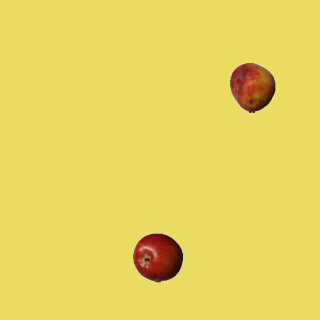Apple Braeburn: (132, 232, 182, 282)
Peach: (227, 62, 277, 112)
